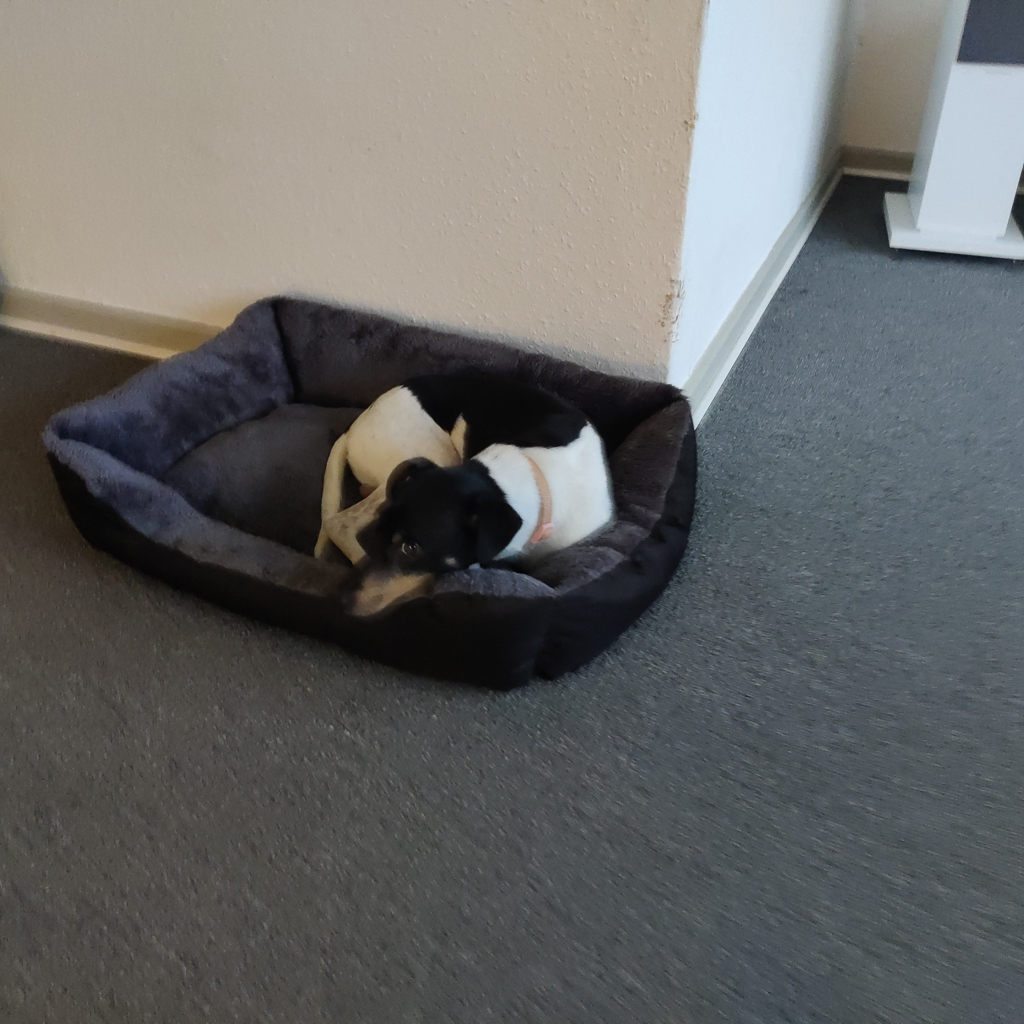Dog: (297, 346, 629, 639)
